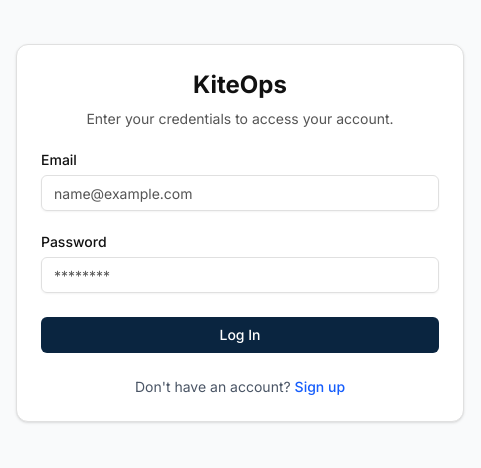
it: LoginPage › validates form inputs
// Submit empty form
Click the button "Log In". click: (240, 335)
box: [41,317,439,353]
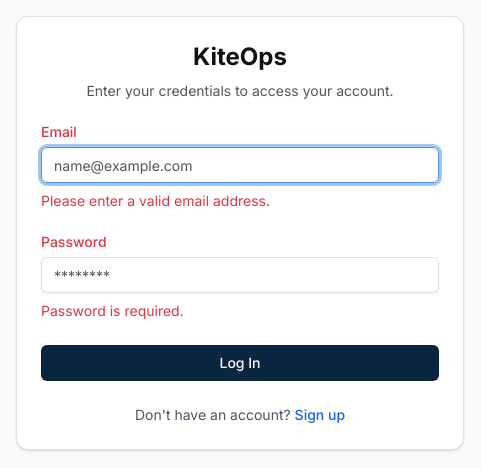
Expected: the text "Please enter a valid email address." is shown, [41,192,270,209]
Expected: the text "Password is required." is shown, [41,302,184,319]
